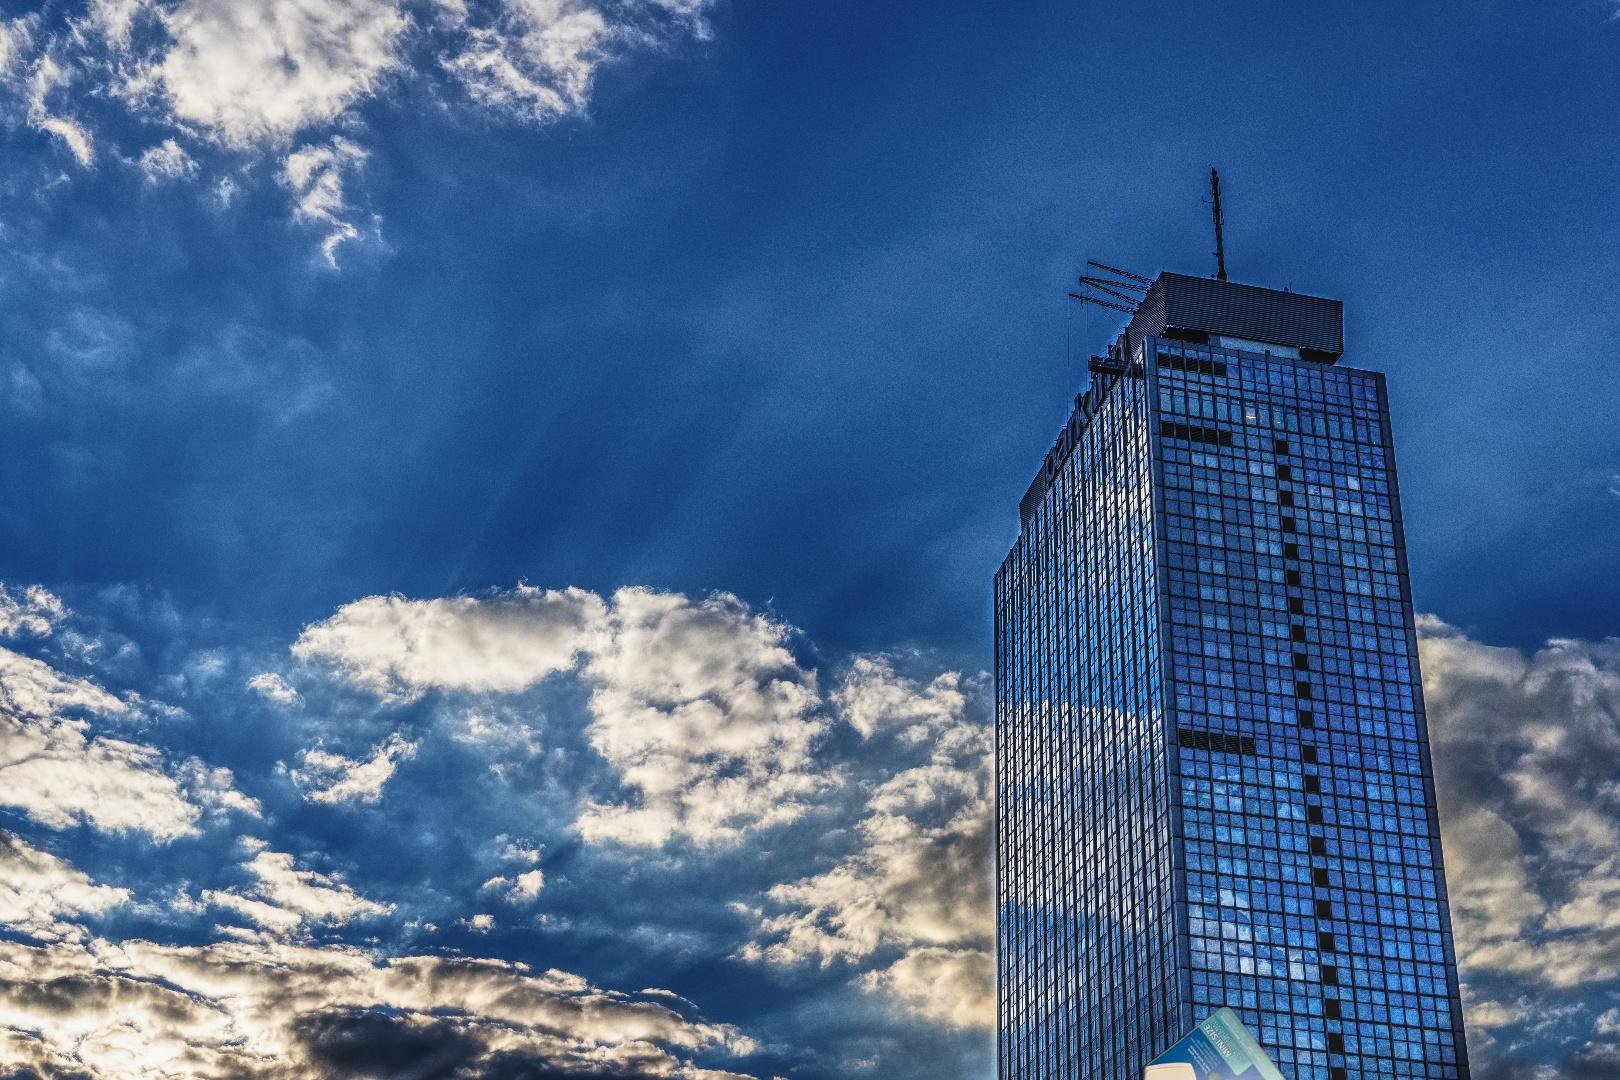paper: (1079, 1003, 1309, 1080)
